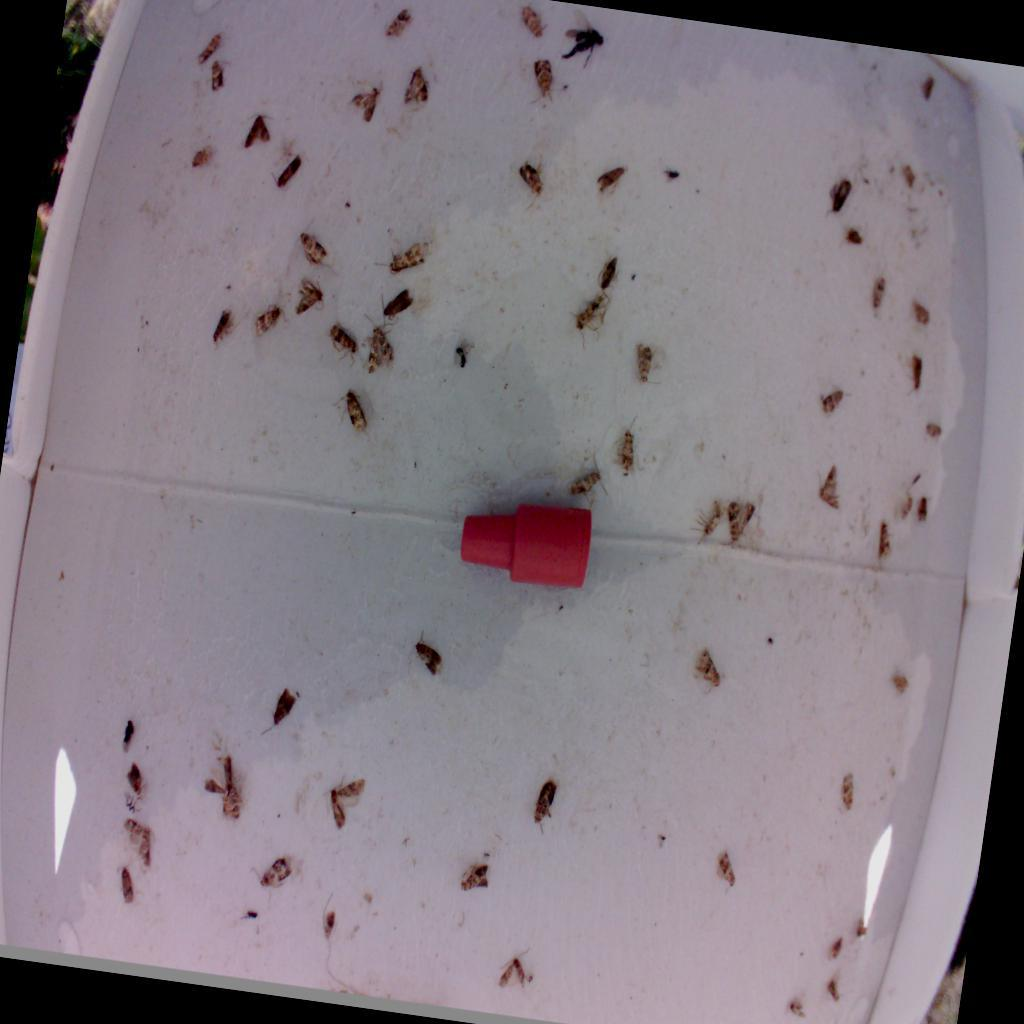grape_moth: (198, 752, 254, 824), (315, 770, 368, 833), (562, 288, 612, 352), (354, 313, 399, 380), (566, 449, 614, 504), (526, 54, 568, 111), (372, 236, 426, 280), (116, 816, 158, 872), (328, 384, 372, 436), (720, 496, 760, 552), (246, 850, 296, 894), (688, 495, 728, 549), (610, 413, 642, 478), (628, 340, 668, 391), (494, 942, 533, 994), (512, 158, 548, 214), (294, 217, 332, 270), (529, 775, 560, 838), (346, 80, 384, 129), (250, 298, 292, 342), (324, 320, 363, 366), (811, 461, 846, 512), (690, 643, 726, 692), (290, 275, 328, 319), (452, 856, 493, 894), (400, 62, 434, 106), (208, 306, 238, 350), (514, 4, 548, 42), (712, 848, 742, 890), (112, 865, 139, 908), (382, 4, 414, 40), (874, 520, 899, 564), (194, 30, 222, 68), (836, 768, 859, 814), (867, 274, 889, 322), (816, 384, 846, 418), (206, 55, 228, 94), (841, 222, 868, 250), (186, 145, 211, 173), (828, 933, 848, 965), (824, 976, 845, 1006), (786, 995, 808, 1021), (854, 917, 870, 941)
